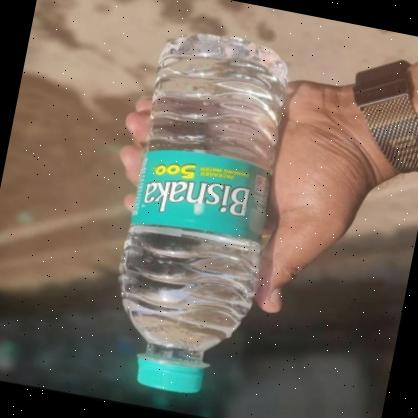bottle: (99, 25, 302, 404)
cap: (133, 353, 208, 396)
label: (130, 142, 277, 254)
